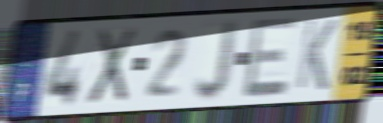2: (144, 26, 189, 101)
4: (41, 28, 82, 110)
E: (241, 14, 299, 101)
J: (192, 17, 241, 104)
K: (293, 17, 340, 93)
X: (84, 24, 140, 108)
